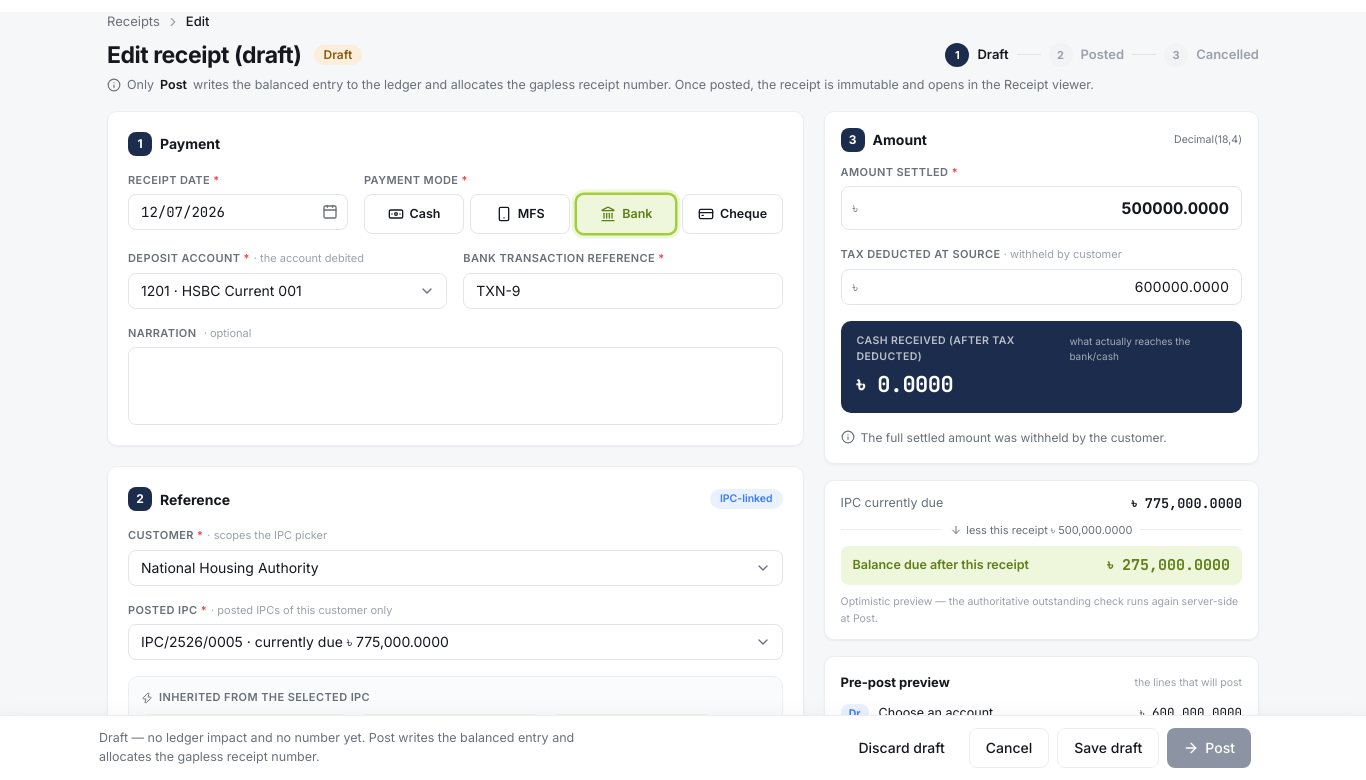
Receipt editor — §A IPC-linked (spec §5/§7; FR-REC-002/017/018) › blocks tax deducted > amount settled with the exact copy
Check: the heading "Edit receipt (draft)" is shown, box [107, 38, 302, 72]
Note: Post is disabled by postReady on the invalid tds — click Save to surface the field error.
Click the button with test id "receipt-save".
click(1108, 748)  # box [1057, 728, 1159, 768]
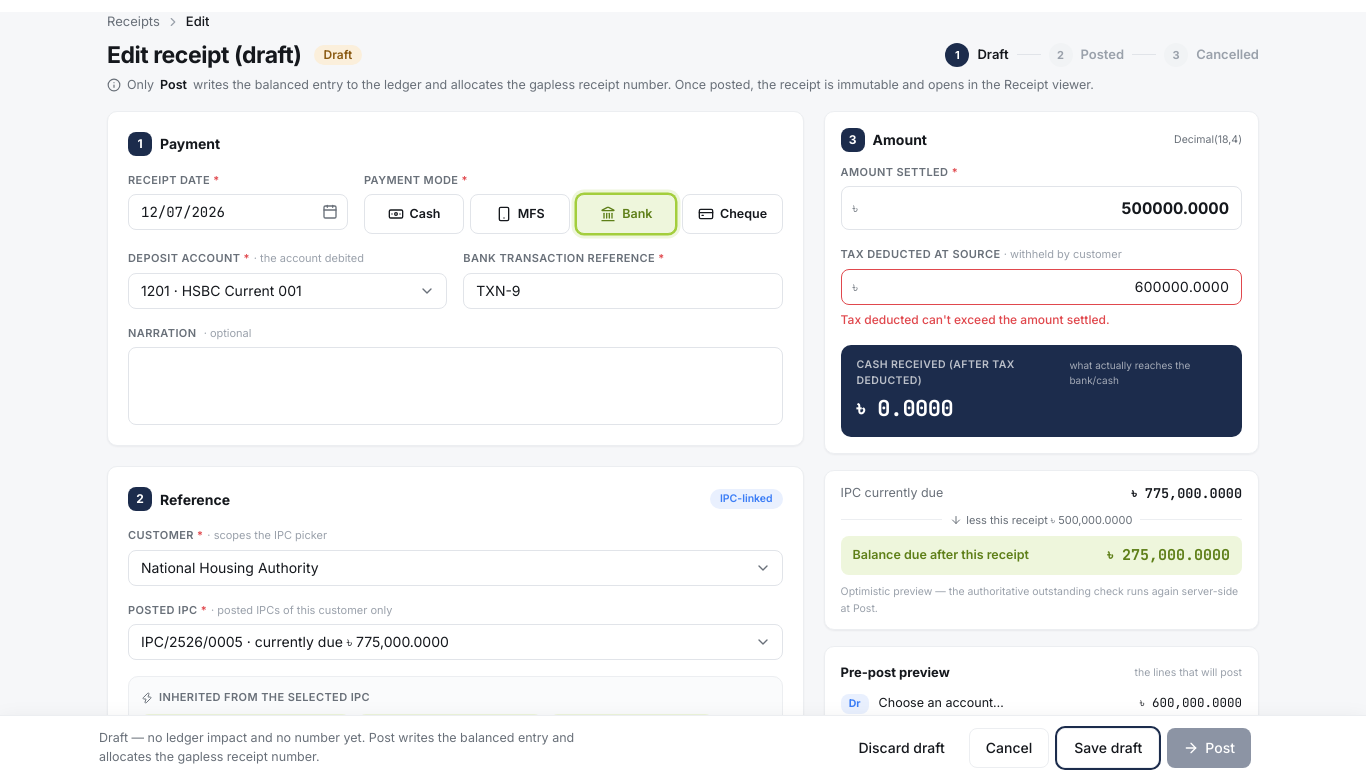
Check: the text with test id "receipt-tds-err" reads "Tax deducted can't exceed the amount settled.", box [841, 312, 1110, 327]
